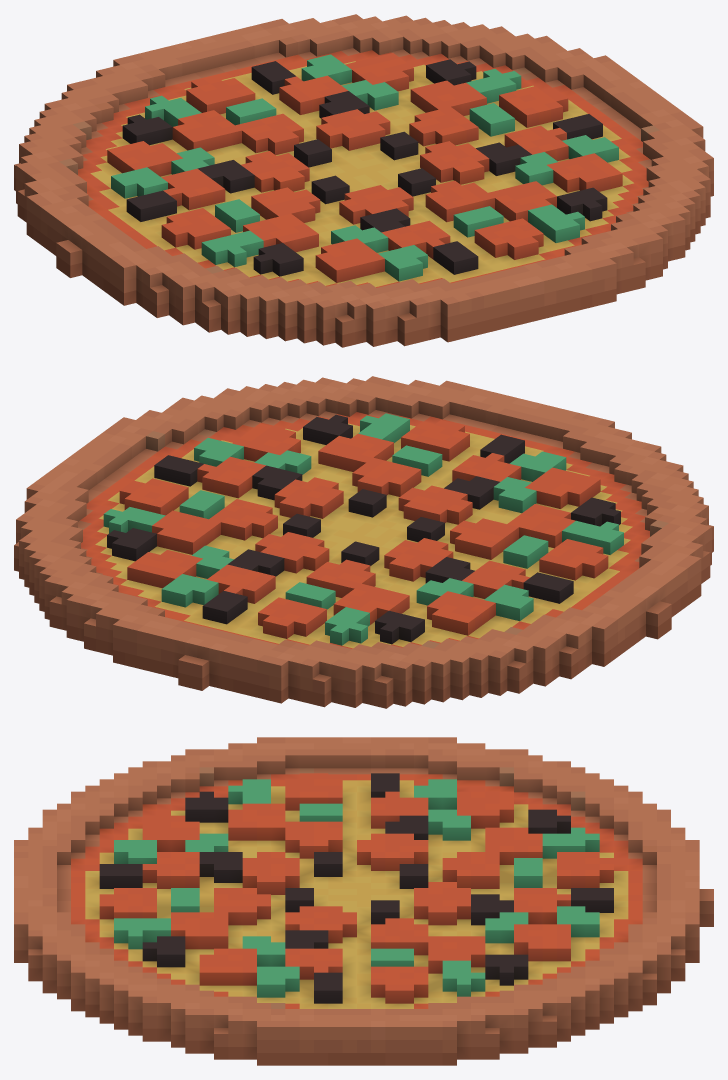
Rendered from pizza.glb.
3 views of the same model, one above another, from view 1: azimuth 30°, elevation 25°; view 2: azimuth 150°, elevation 25°; view 3: azimuth 270°, elevation 25° (orthographic). The views are drawn at different scales.
Parts seen in each view (by area): view 1: voxels; view 2: voxels; view 3: voxels.
Part boxes in pixels (bbox=[...]): voxels: bbox=[14, 14, 713, 347]; voxels: bbox=[14, 376, 713, 708]; voxels: bbox=[14, 737, 713, 1065].
Size of the model in its own units: 0.8593 by 0.0526 by 0.8593.
